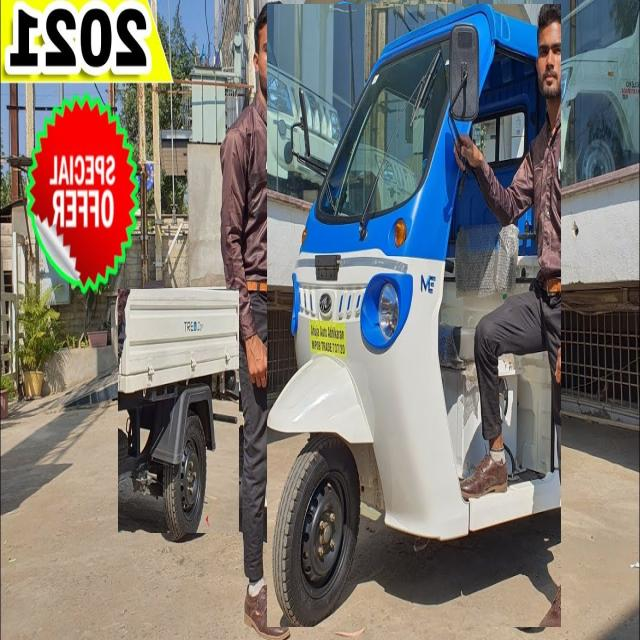autorickshaw: (267, 4, 560, 627), (118, 289, 239, 533)
